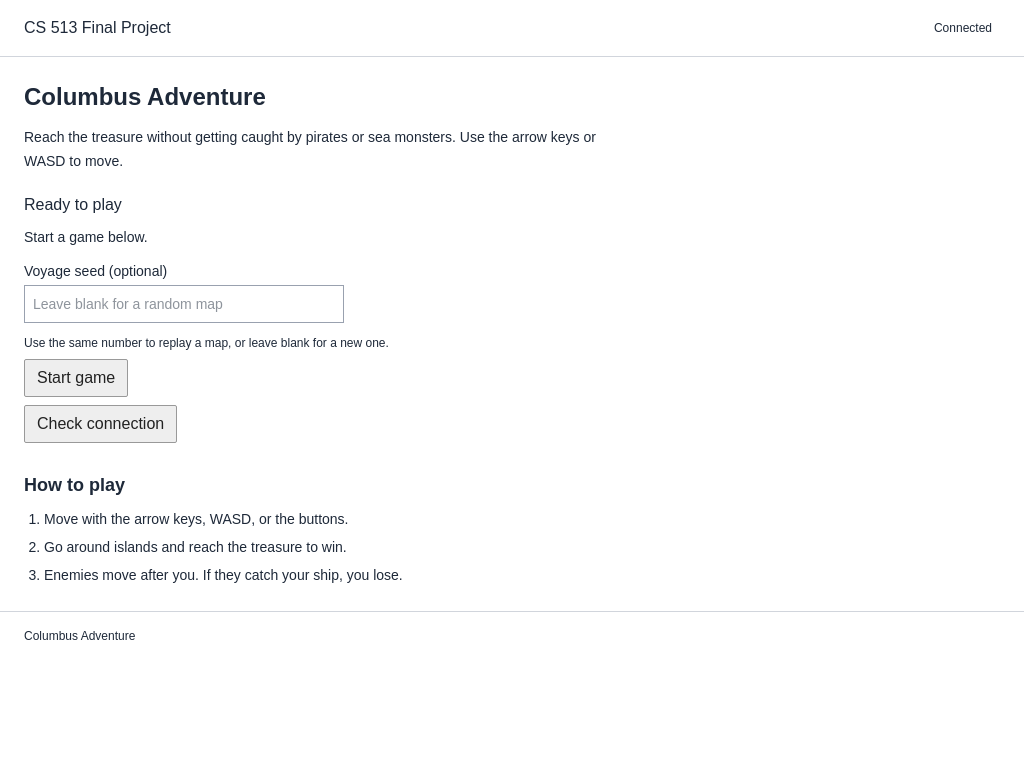
Scenario: confirms reset, pauses movement in the dialog, and restores the backend snapshot
Expected: the text "Connected" is shown, [934,21,992,35]
Click the button "Start game". click: (76, 378)
box: [24,359,128,397]
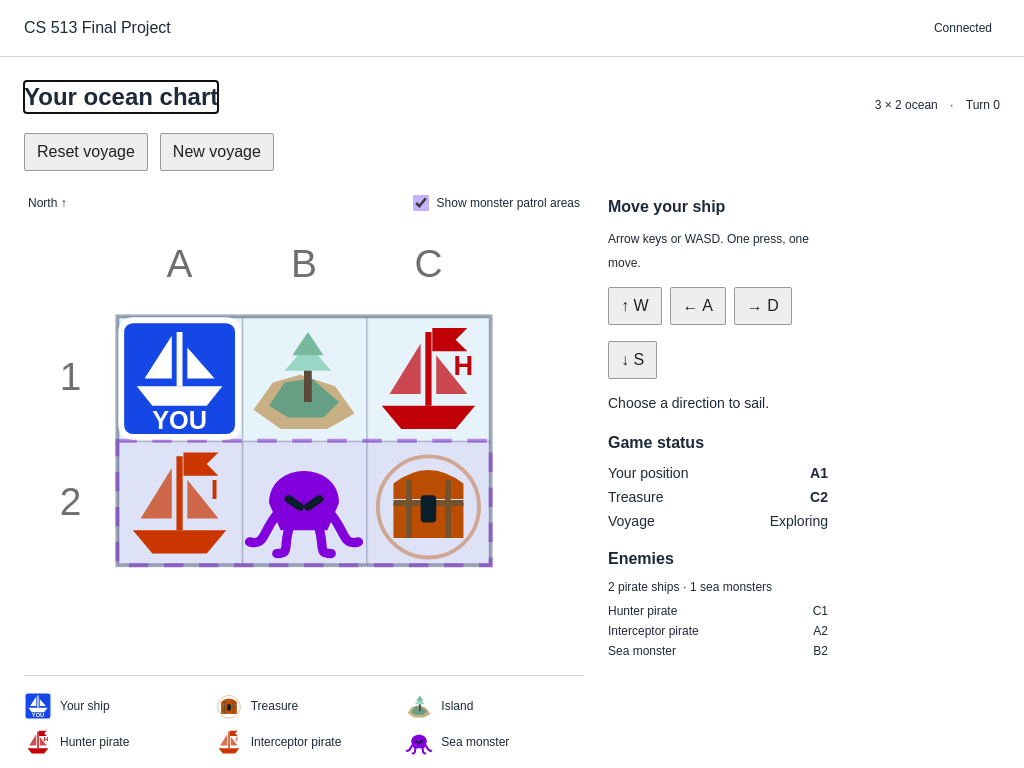
Expected: the heading "Your ocean chart" is shown, [24,81,218,113]
Click the button named "Move south". click: (633, 360)
box: [608,341,657,379]
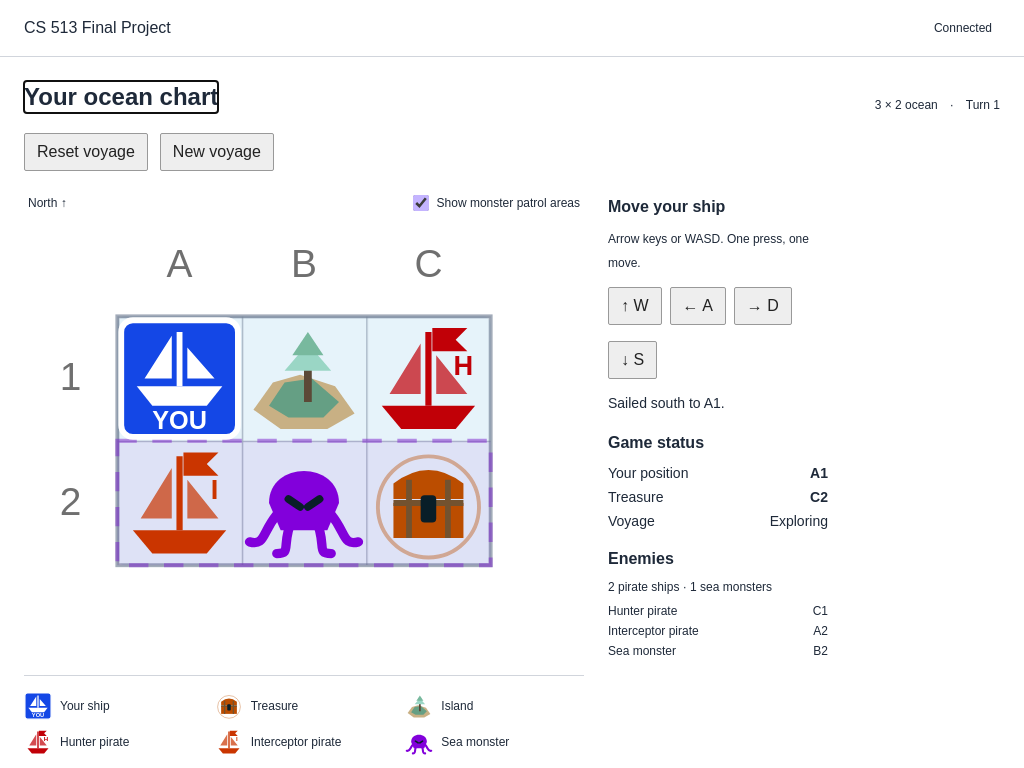
Expected: the text "Turn 1" is shown, [966,97,1000,113]
Click the button "Reset voyage". click: (86, 152)
box: [24,133,148,171]
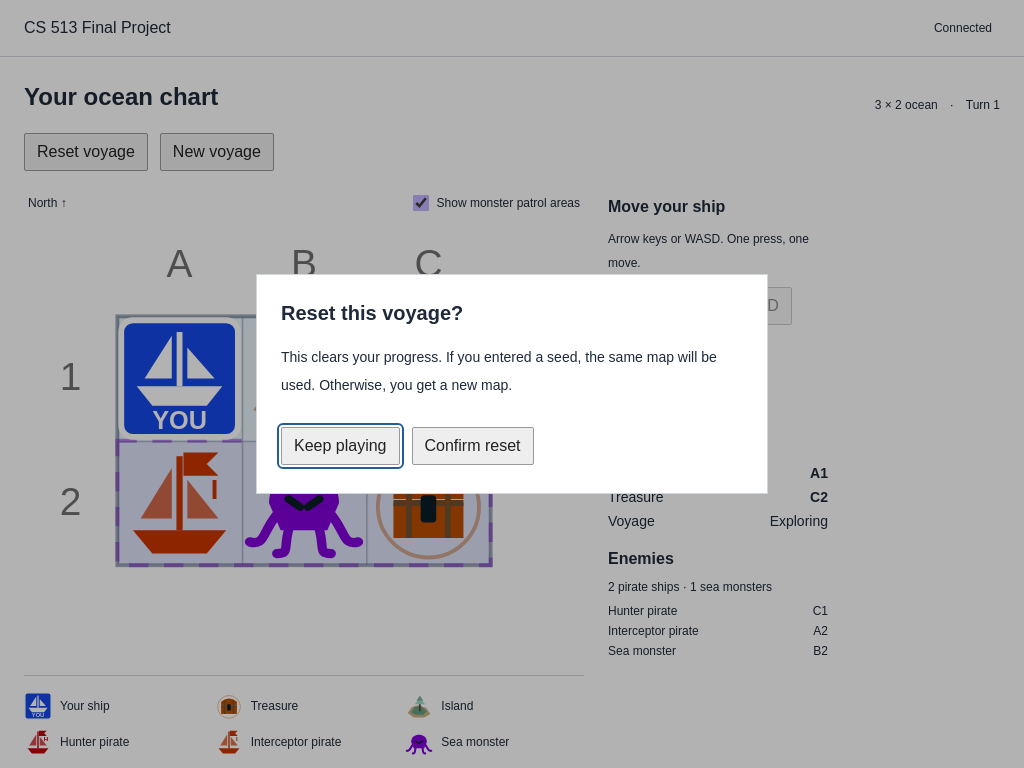
Expected: the dialog "Reset this voyage?" is shown, [256,274,768,494]
Press d
Click the button "Confirm reset". click: (472, 446)
box: [412,427,534,465]
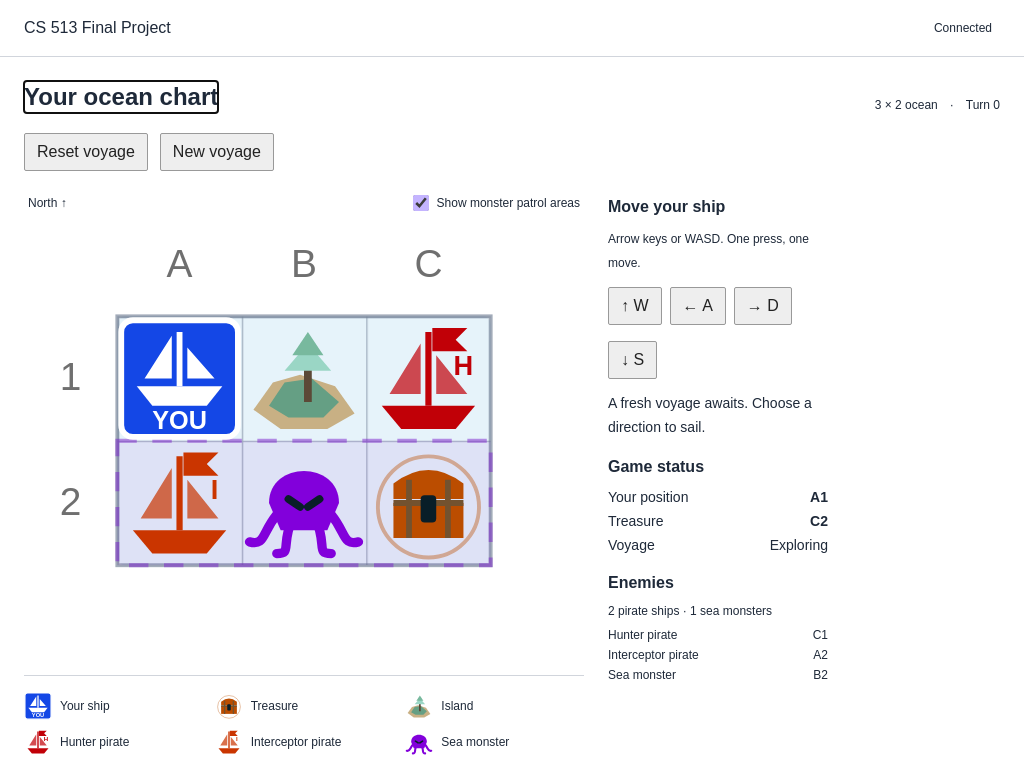
Expected: the text "Turn 0" is shown, [966,97,1000,113]
